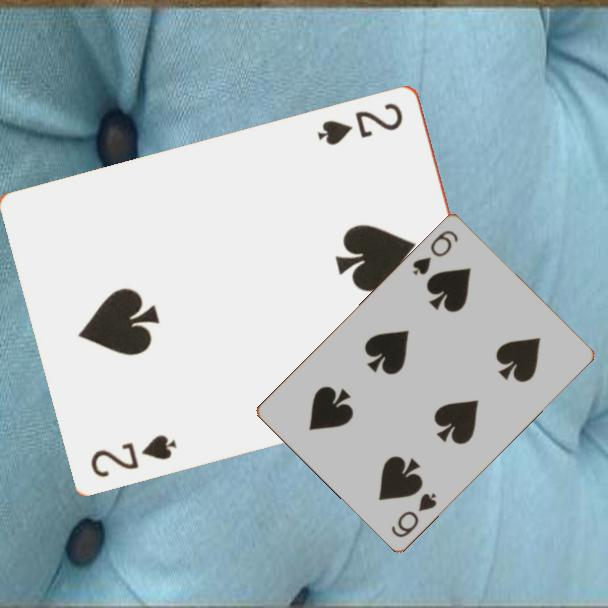s02: (87, 430, 180, 480), (313, 99, 406, 148)
s06: (408, 226, 461, 278), (388, 489, 440, 540)
